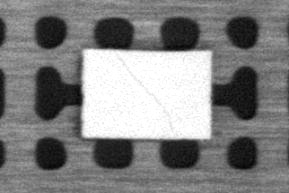DIE_CRACK: (116, 55, 175, 132)
